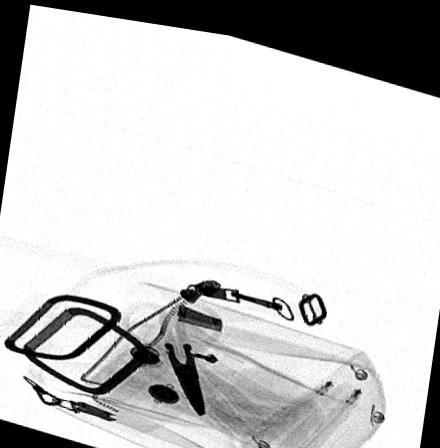Scissors: (118, 289, 222, 410)
